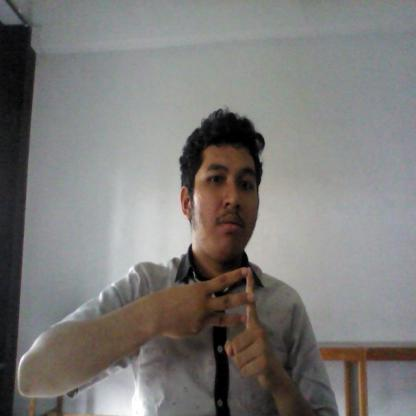B: (171, 266, 278, 388)
